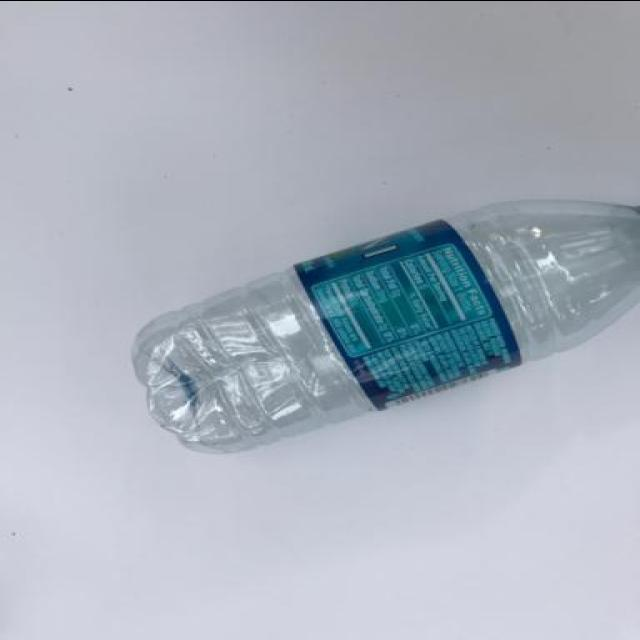litter: (130, 194, 640, 455)
